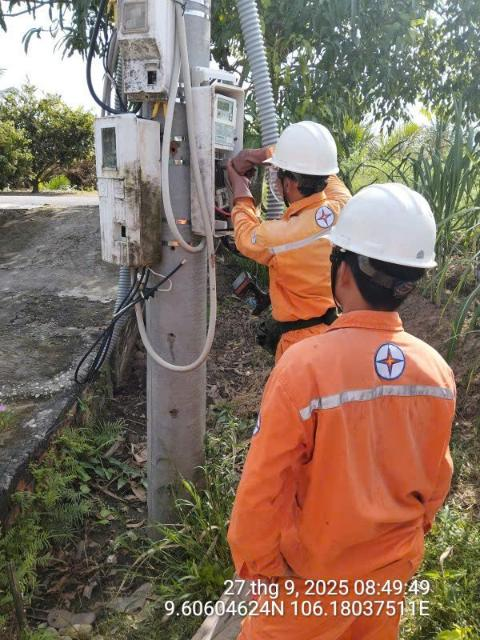gloves: (218, 154, 267, 205), (230, 134, 272, 174)
harness: (242, 303, 361, 337)
helmet: (317, 179, 456, 279), (266, 110, 346, 185)
